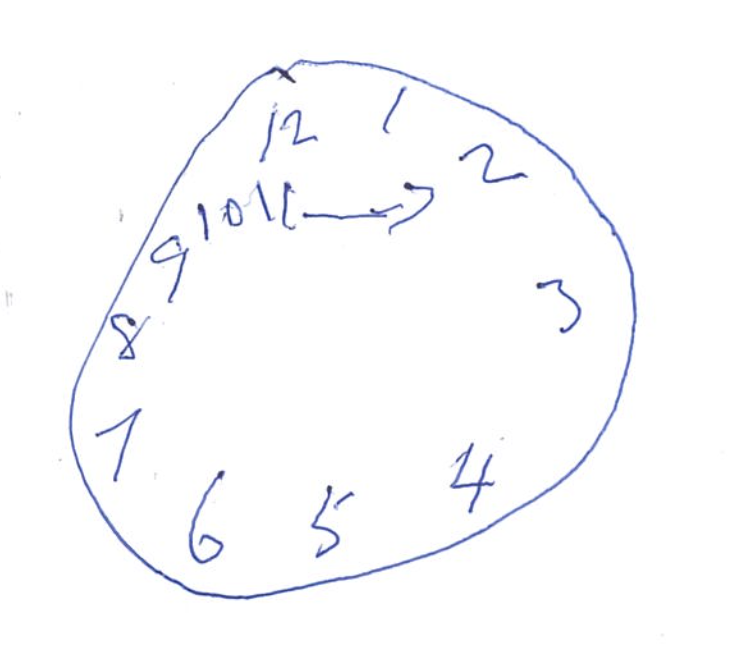1: (377, 80, 406, 137)
10: (192, 197, 246, 241)
11: (254, 177, 294, 232)
12: (252, 102, 318, 162)
2: (453, 142, 528, 186)
3: (537, 278, 583, 337)
4: (444, 442, 498, 517)
5: (305, 480, 354, 561)
6: (184, 469, 227, 568)
7: (94, 408, 144, 484)
8: (109, 307, 151, 364)
9: (149, 228, 190, 306)
contour: (63, 58, 641, 602)
